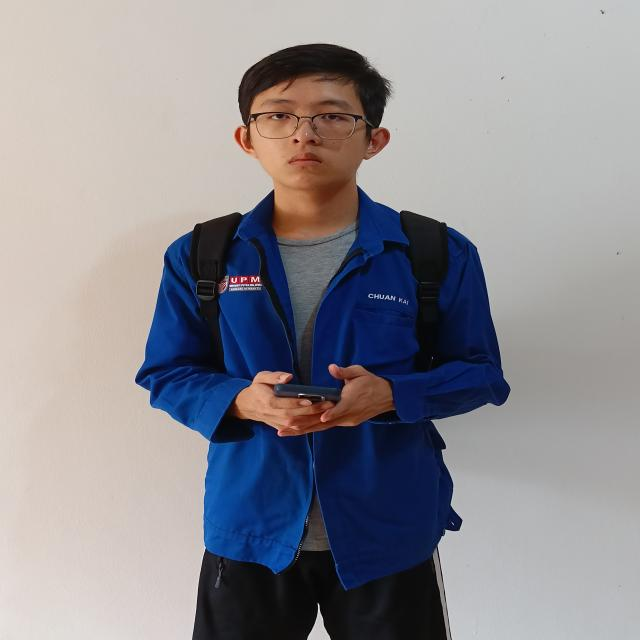person_with_labcoat: (136, 44, 510, 640)
